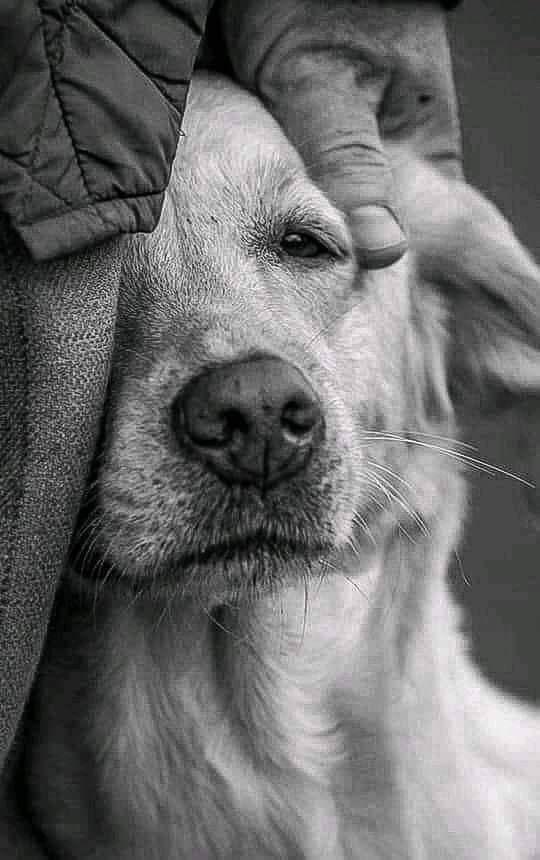adult_dog: (30, 71, 540, 850)
